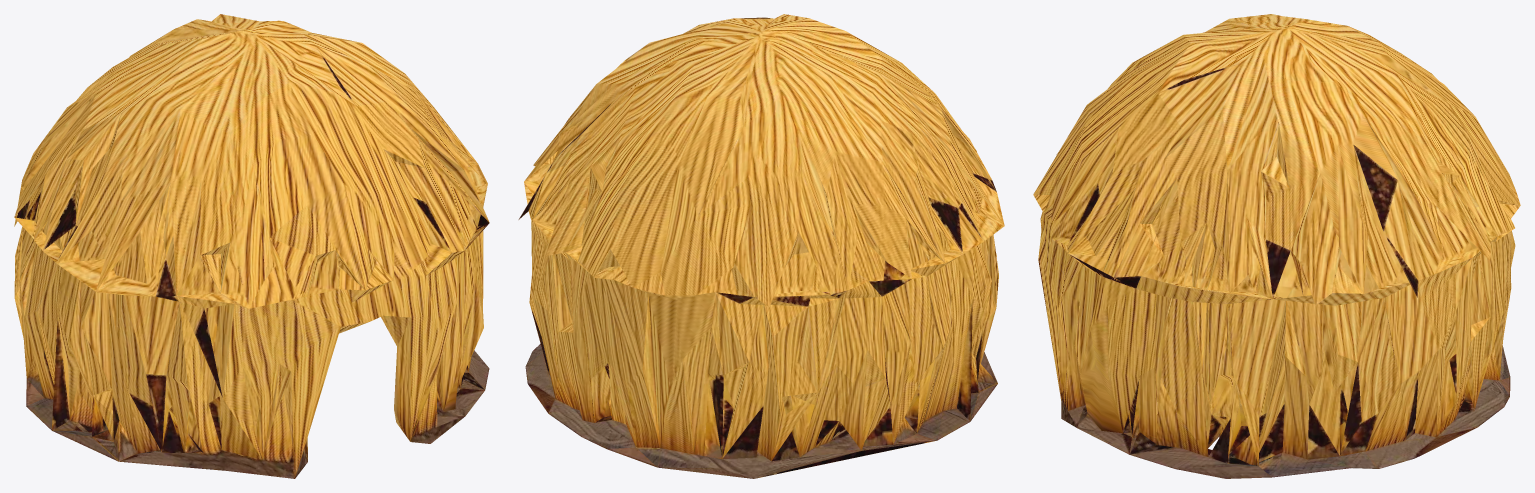
The model's file is haystack.glb.
3 renders of one model, left to right at view 1: azimuth 30°, elevation 25°; view 2: azimuth 150°, elevation 25°; view 3: azimuth 270°, elevation 25°, orthographic.
Size of the model in its own units: 1.72 by 1.37 by 1.71.
Materials: 1 (1 with a texture image).
